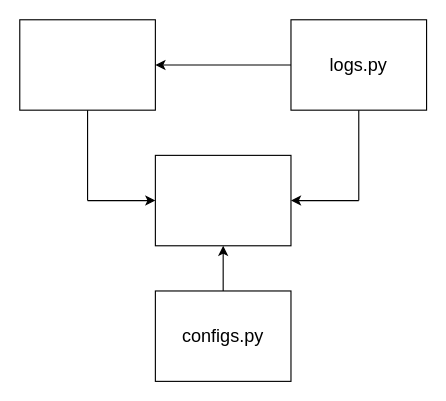
The diagram is 446 pixels wide and 401 high, and some of its shapes have lost their labels. The centre of each missing label's shape, as x and y in pixels:
"controller.py" goes at point 222,200.
"operation.py" goes at point 87,64.
